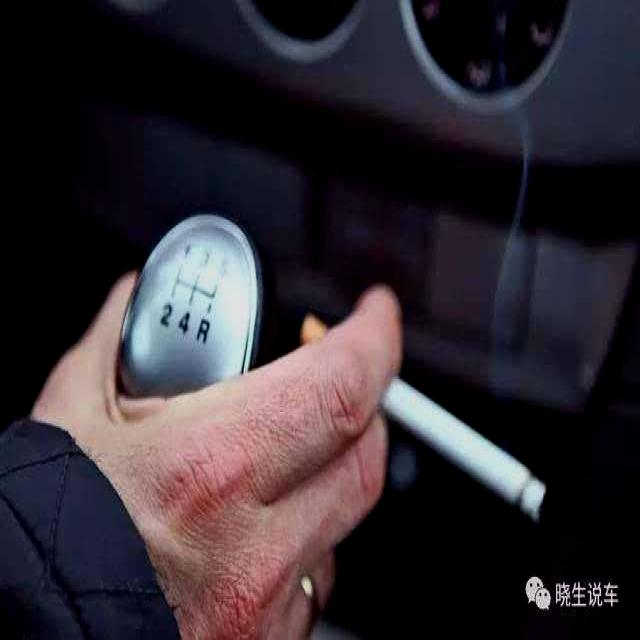Smooking: (294, 292, 563, 532)
